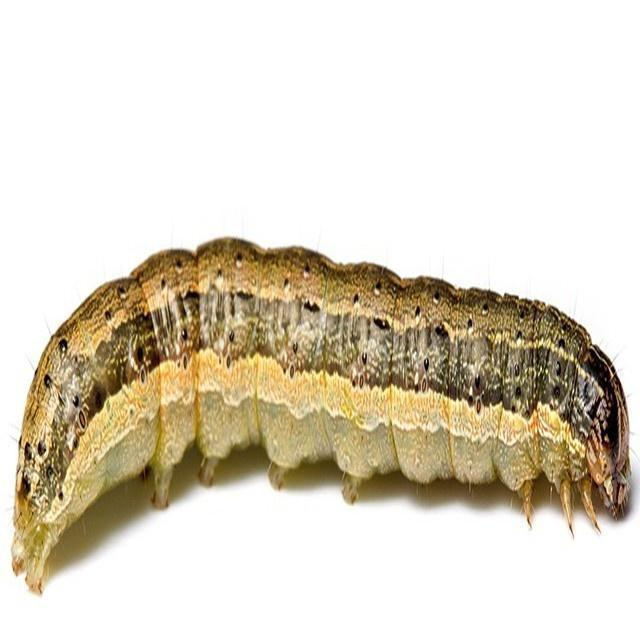gusano_cogollero: (9, 232, 640, 598)
